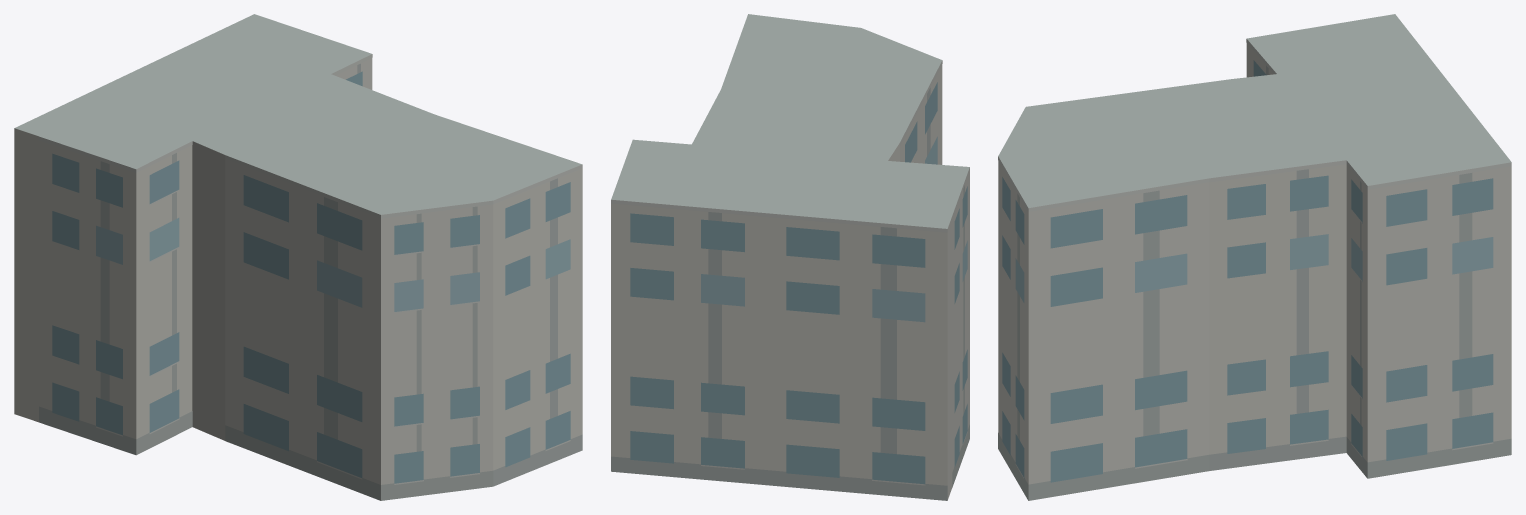
The model's file is survey-upis-32494866.glb.
3 renders of one model, left to right at view 1: azimuth 30°, elevation 25°; view 2: azimuth 150°, elevation 25°; view 3: azimuth 270°, elevation 25°, orthographic. The views are drawn at different scales.
Visible parts, largest first — view 1: survey-upis-32494866.tmp; view 2: survey-upis-32494866.tmp; view 3: survey-upis-32494866.tmp.
Part boxes in pixels (x1,y1,x2,y2): survey-upis-32494866.tmp: (14,14,582,500); survey-upis-32494866.tmp: (611,14,969,500); survey-upis-32494866.tmp: (998,14,1511,500).
Bounding box in the file's own units: 25.48 × 17.9 × 28.47.
